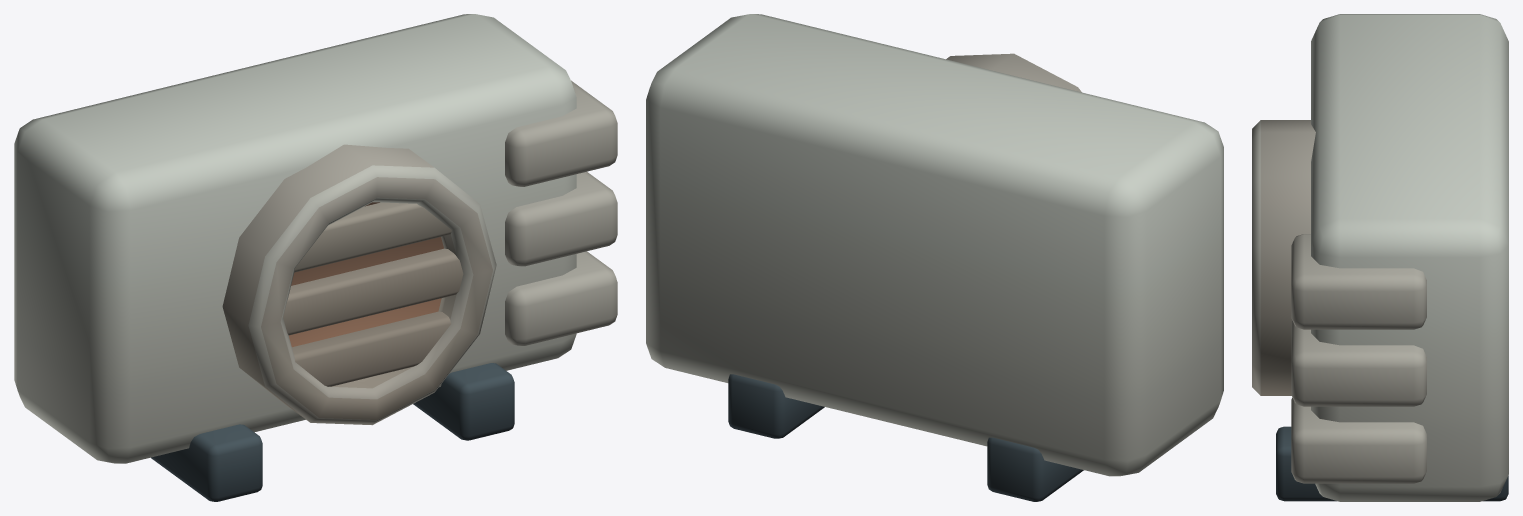
File: mct_homepart_aircon.fbx
3 renders of one model, left to right at view 1: azimuth 30°, elevation 25°; view 2: azimuth 150°, elevation 25°; view 3: azimuth 270°, elevation 25°, orthographic. The views are drawn at different scales.
Visible parts, largest first — view 1: aircon; view 2: aircon; view 3: aircon.
Part boxes in pixels (x1=…): aircon: x1=14, y1=14, x2=617, y2=501; aircon: x1=646, y1=14, x2=1223, y2=501; aircon: x1=1252, y1=14, x2=1508, y2=501.
Bounding box in the file's own units: 139 × 84.86 × 62.66.
